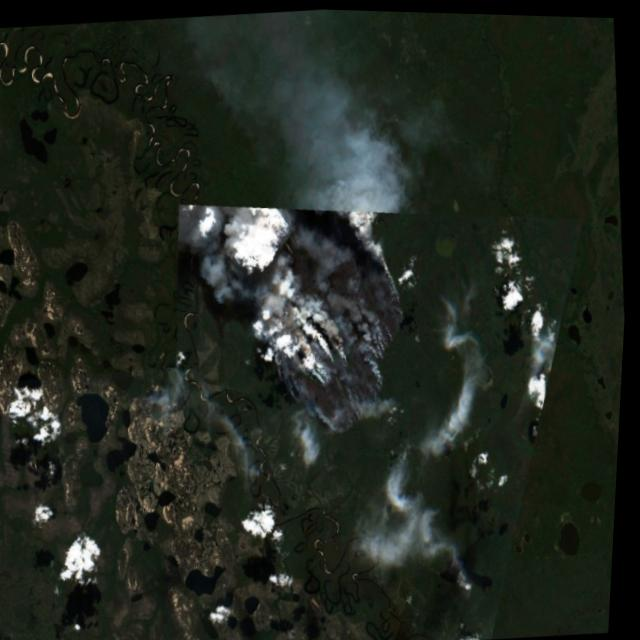fire: (219, 195, 424, 451)
